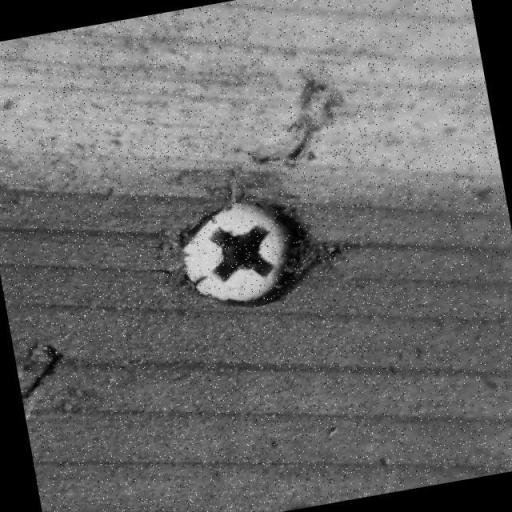Phillips: (190, 203, 288, 300)
